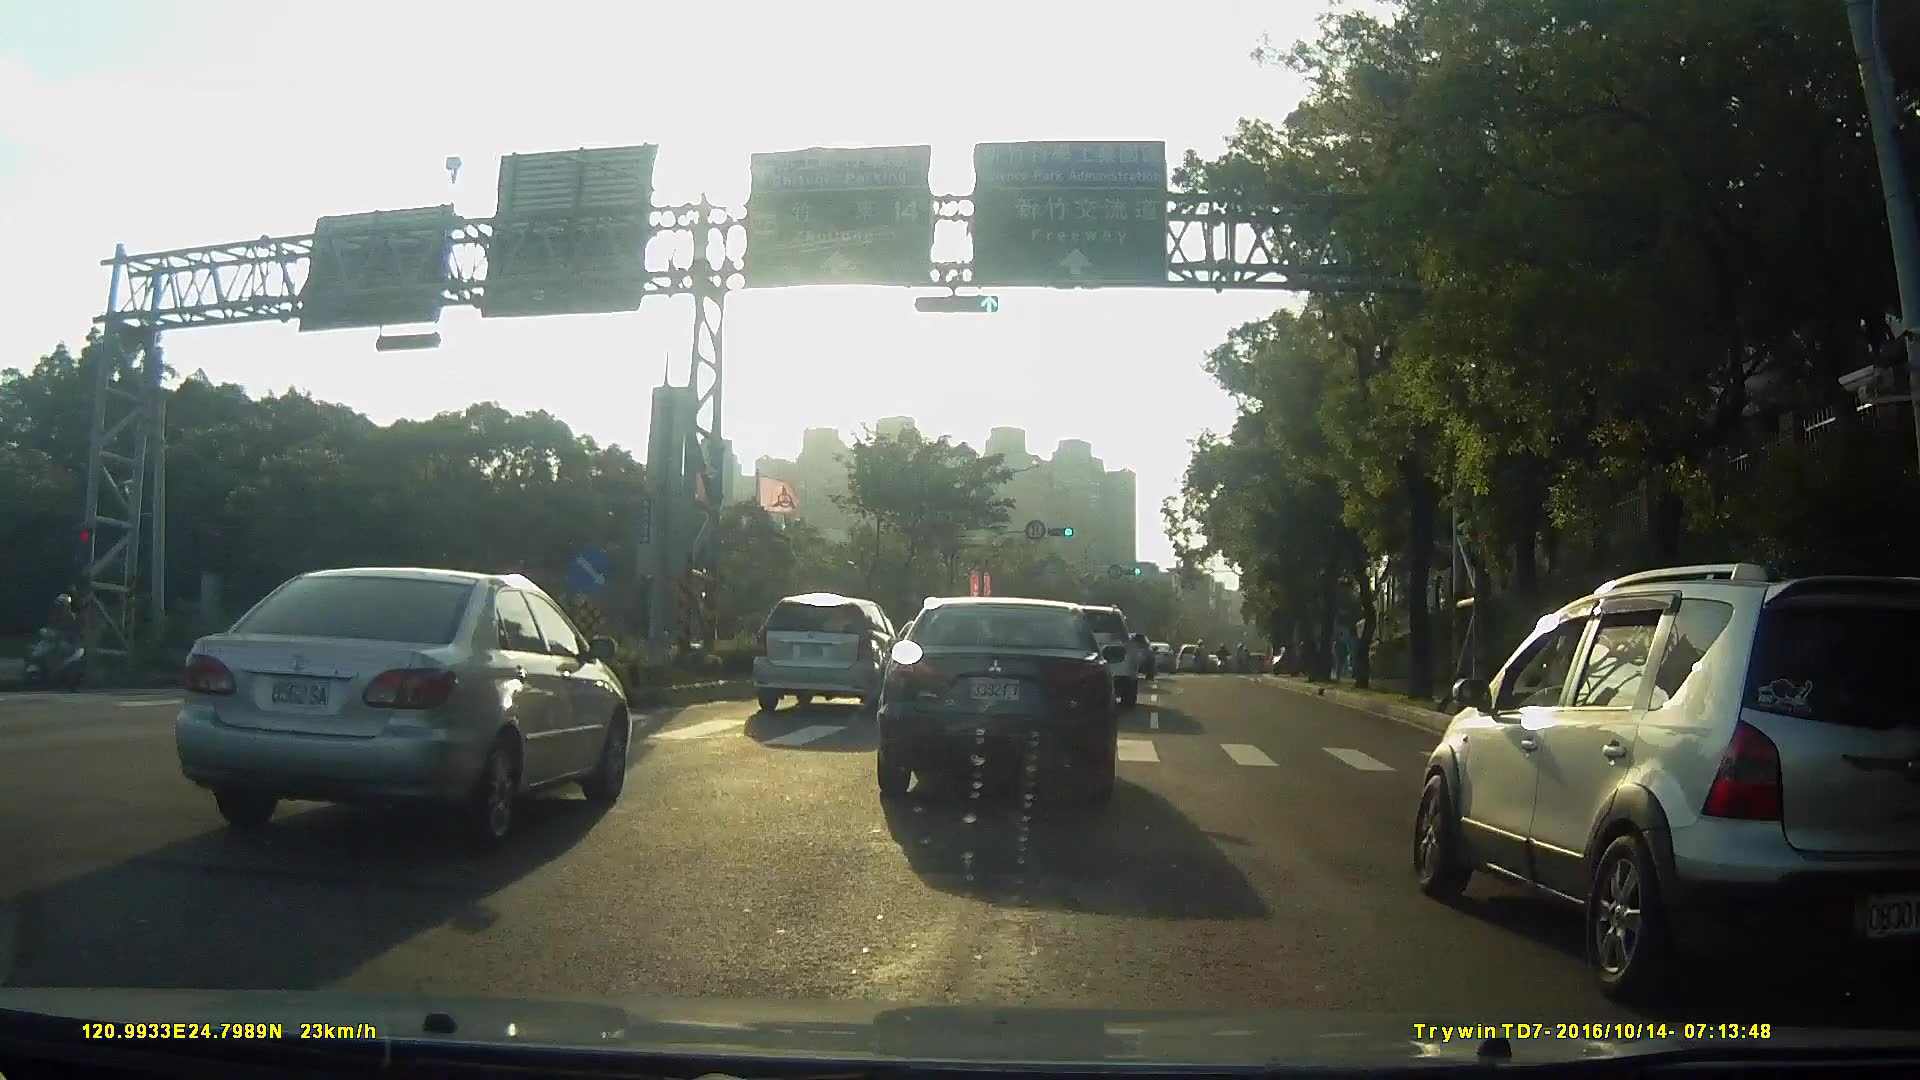rider: (26, 595, 90, 693)
vehicle: (1403, 562, 1920, 1004), (153, 559, 647, 858), (864, 597, 1139, 813), (741, 593, 897, 718), (1134, 639, 1168, 671), (1166, 640, 1196, 673)
